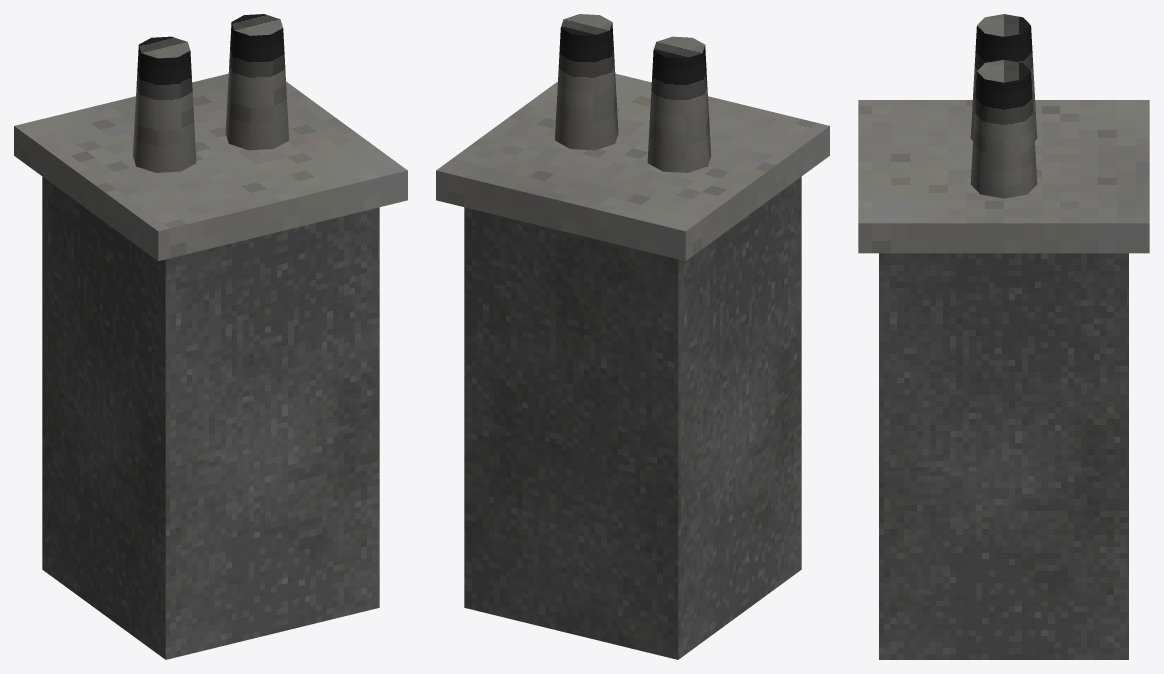
The model's file is chimney.glb.
3 views of the same model, side by side, from view 1: azimuth 30°, elevation 25°; view 2: azimuth 150°, elevation 25°; view 3: azimuth 270°, elevation 25° (orthographic).
Parts seen in each view (by area): view 1: chimney; view 2: chimney; view 3: chimney.
Boxes of the visible parts, box(x1,y1,x2,y2) form: chimney: box(14, 14, 407, 659); chimney: box(436, 14, 829, 659); chimney: box(858, 14, 1149, 659).
Bounding box in the file's own units: 0.7 × 1.48 × 0.7.
